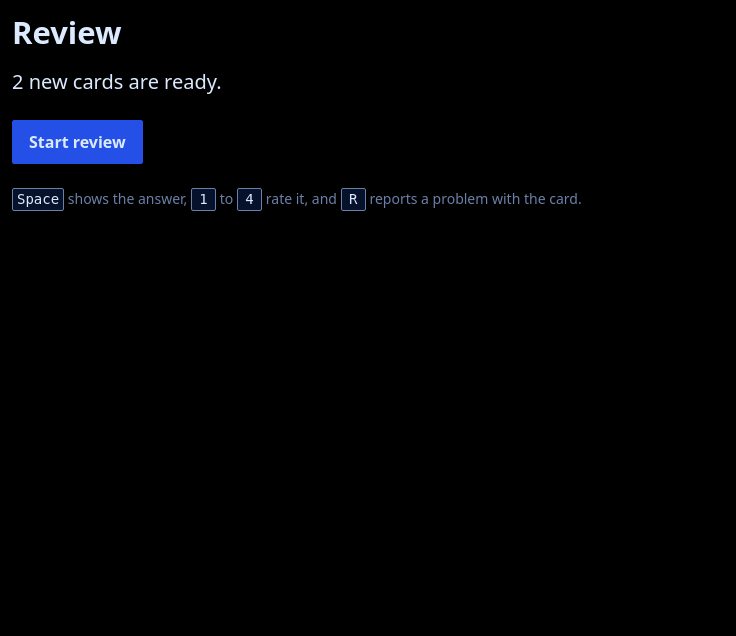
Test case: Review card flip › flips with Space, rates with 1 to 4 and advances, and opens the report with R
Later steps or results of the test are not shown.
Expected: the text "2 new cards are ready." is shown, top-left (12, 68), bottom-right (222, 95)
Click the button "Start review".
click(77, 142)  # box top-left (12, 120), bottom-right (143, 164)
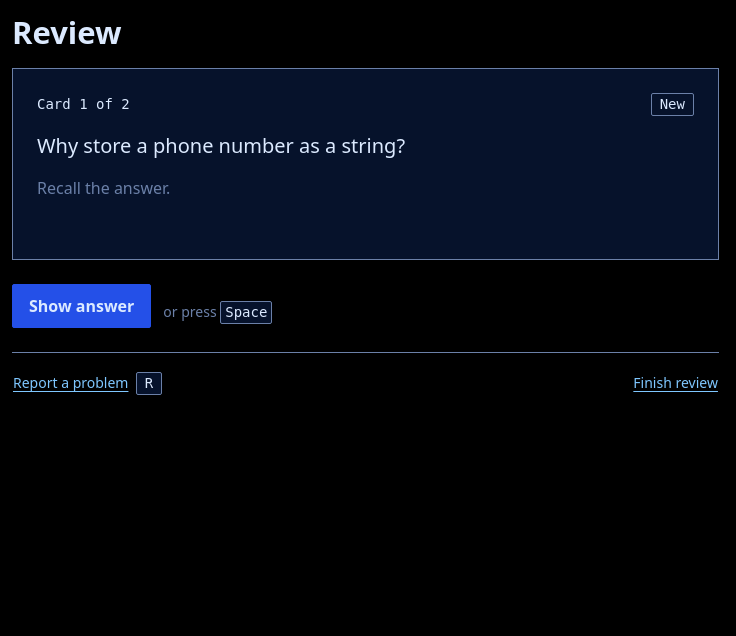
Expected: the text "It keeps leading zeros" is not shown
Now the text "Why store a phone number as a string?" is shown, box top-left (37, 132), bottom-right (405, 159)
Press 3 in the element named "Card 1 of 2, question", box top-left (12, 68), bottom-right (719, 260)
Press Space in the element named "Card 1 of 2, question", box top-left (12, 68), bottom-right (719, 260)
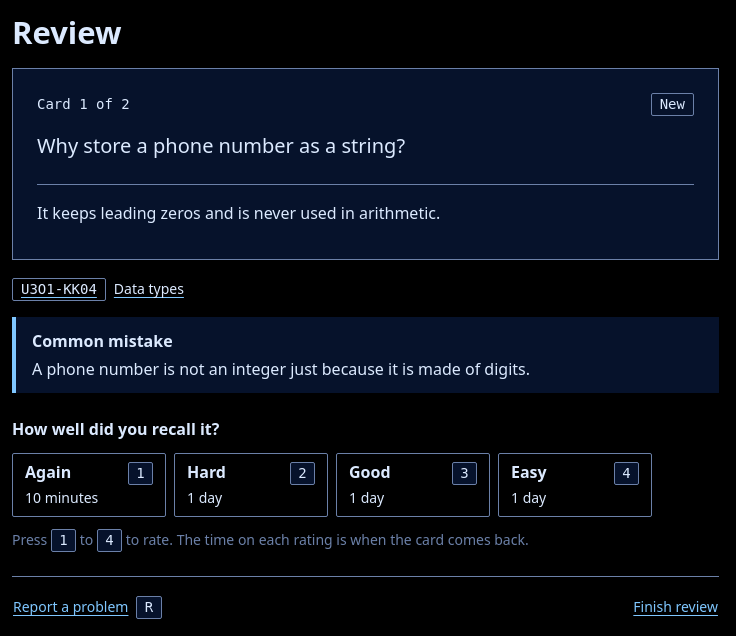
Now the text "It keeps leading zeros and is never used in arithmetic." is shown, box top-left (37, 202), bottom-right (440, 224)
Now the list named "Key knowledge" shows "U3O1-KK04", box top-left (12, 276), bottom-right (184, 301)
Now the element "Common mistake" shows "A phone number is not an integer", box top-left (32, 358), bottom-right (530, 380)
